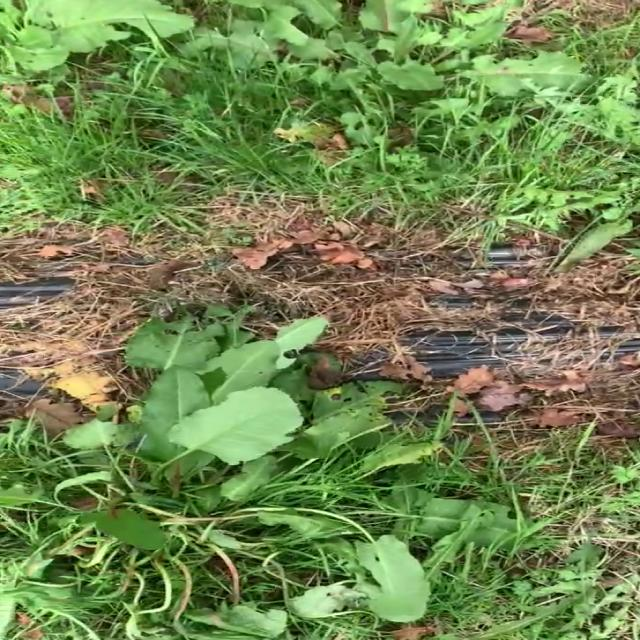organic waste: (1, 316, 538, 640), (195, 0, 576, 129), (0, 0, 204, 114)
